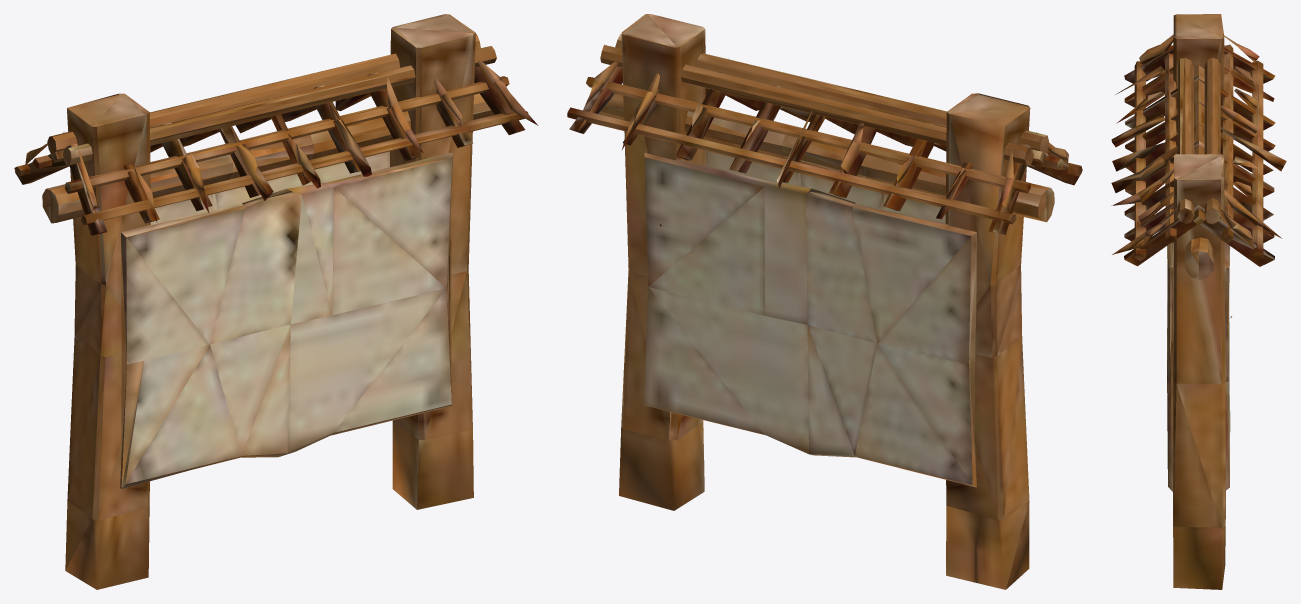
Rendered from notice-board.lod2.glb.
The picture shows the model from 3 angles, left to right: view 1: azimuth 30°, elevation 25°; view 2: azimuth 150°, elevation 25°; view 3: azimuth 270°, elevation 25°; orthographic projection. The views are drawn at different scales.
Bounding box in the file's own units: 2.2 × 2.2 × 0.8545.
Materials: 1 (1 with a texture image).
